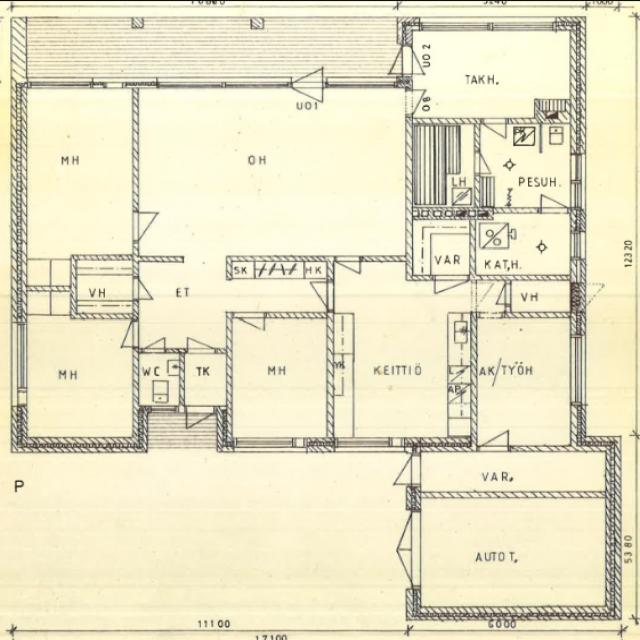door: (364, 550, 421, 590), (364, 510, 421, 550), (365, 44, 412, 74), (374, 455, 421, 485), (397, 44, 443, 74), (292, 78, 323, 118), (292, 48, 323, 88), (433, 275, 466, 312), (132, 211, 170, 241), (478, 418, 508, 452), (234, 312, 264, 346), (298, 282, 333, 310), (540, 180, 568, 213), (186, 406, 214, 439), (105, 320, 139, 347), (188, 321, 215, 354), (335, 254, 361, 285), (406, 90, 438, 115), (132, 276, 164, 300), (141, 325, 165, 354), (482, 118, 506, 146), (482, 284, 512, 306), (474, 152, 503, 174)
